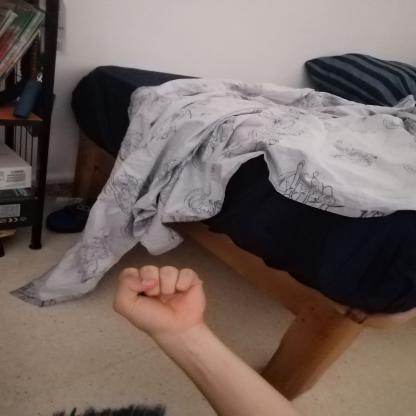SAD: (95, 249, 220, 346)
